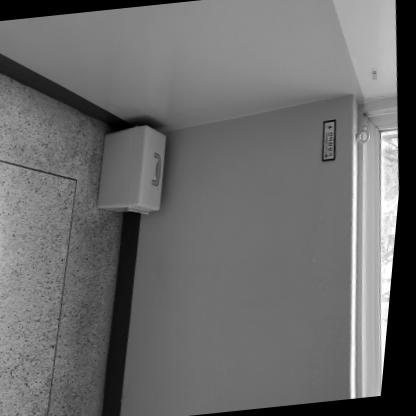DDL: (91, 122, 176, 219)
